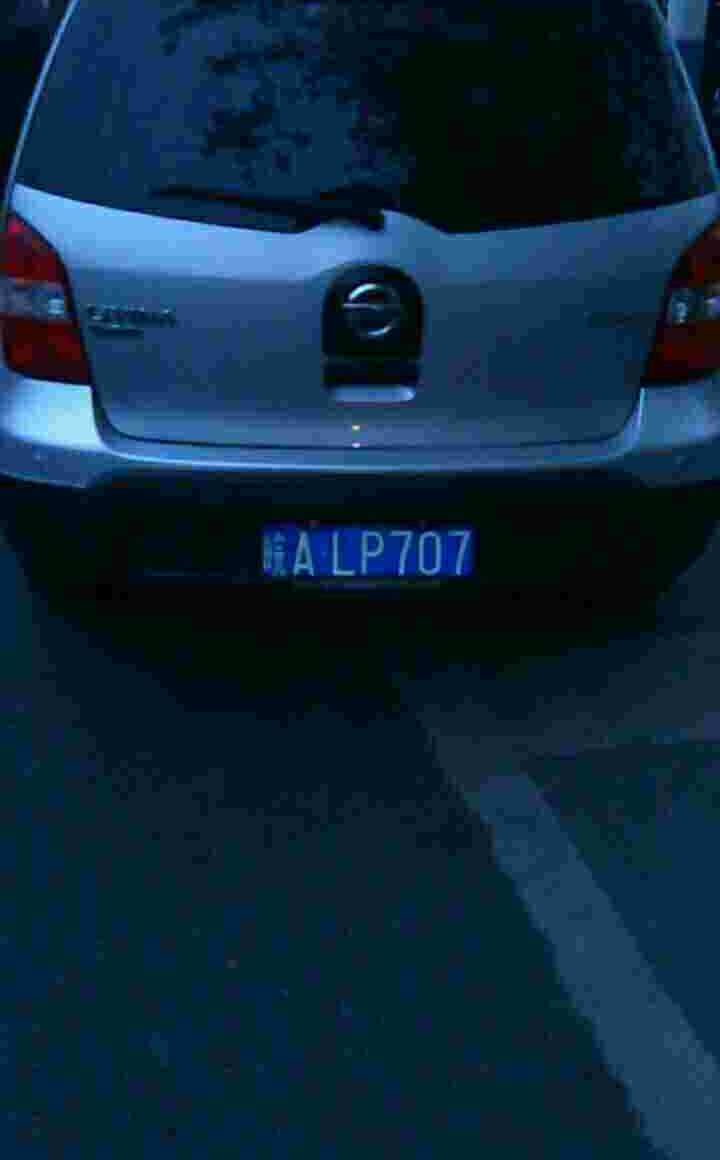license_plate: (241, 516, 489, 591)
